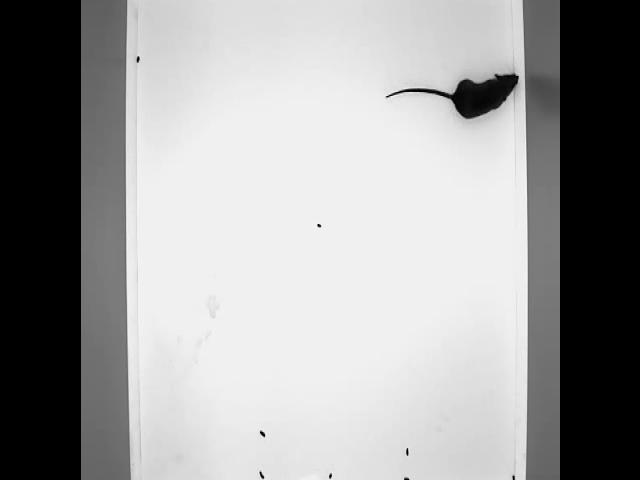Tikus: (386, 72, 516, 118)
